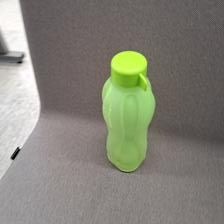bottle: (101, 47, 154, 175)
